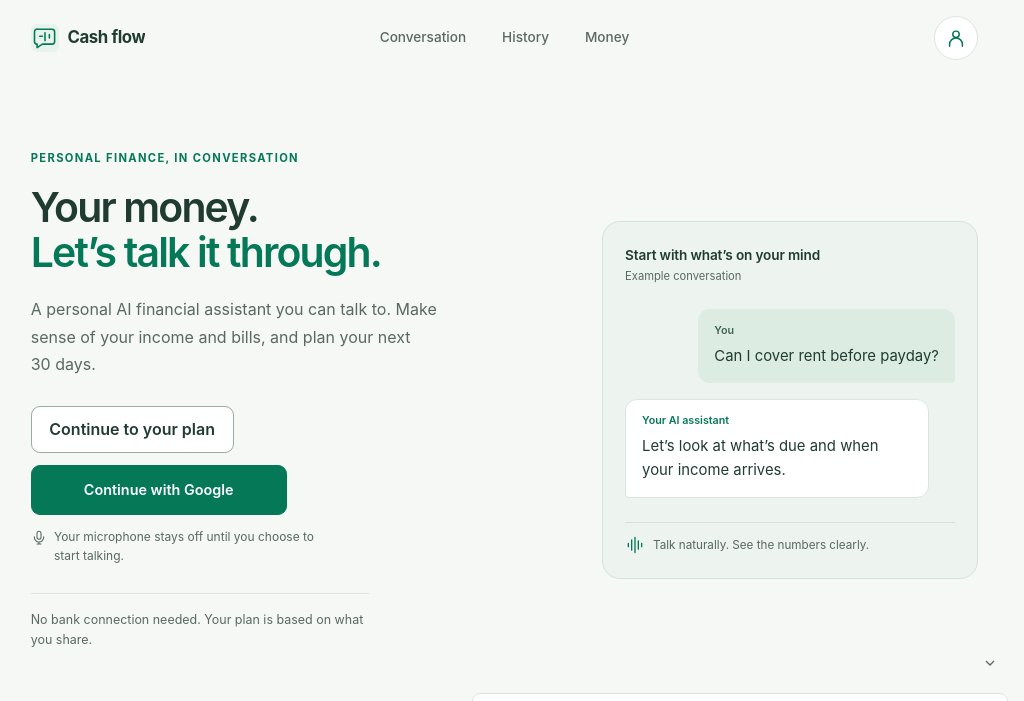
authentication boundary and routes › keeps a cancelled recent sign-in recoverable while allowing the existing account to continue
The width and height of the screenshot is (1024, 701).
Click the button "Continue with Google".
click(159, 490)  # box [31, 465, 287, 515]
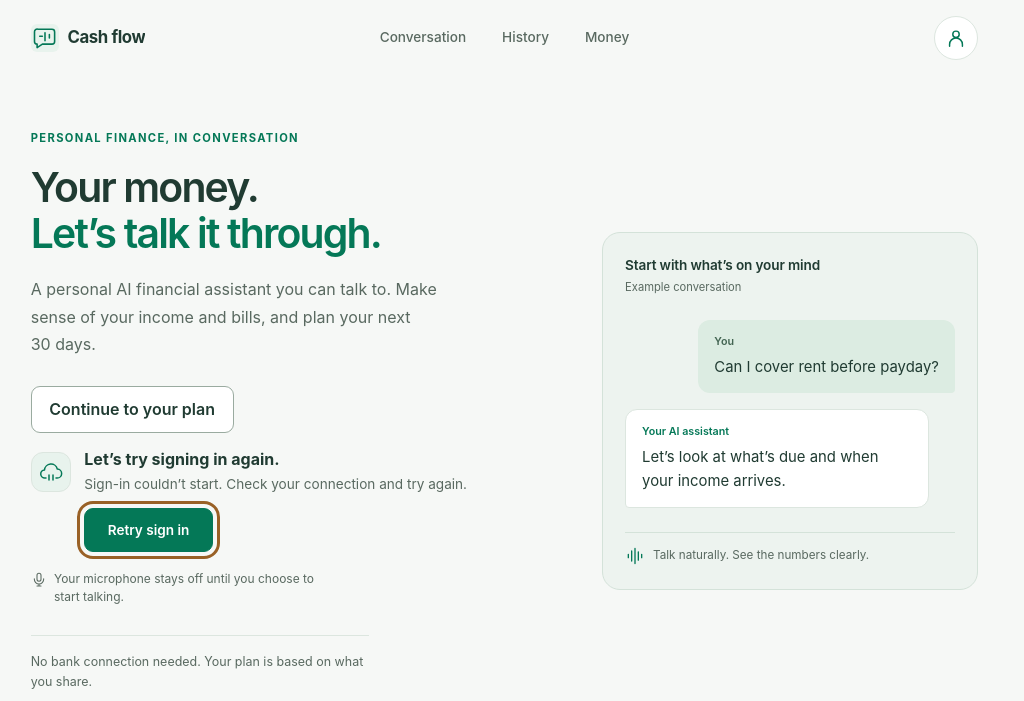
Click the link "Continue to your plan".
click(132, 409)  # box [31, 386, 234, 433]
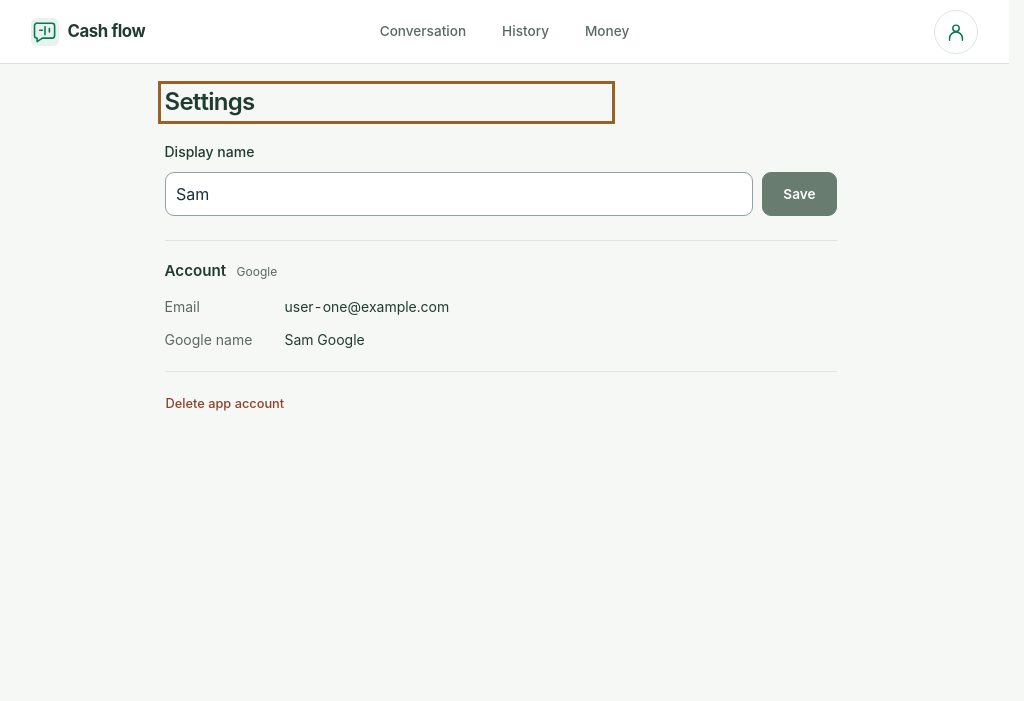
Expected: the field showing "Sam" is shown, [164, 172, 753, 216]
